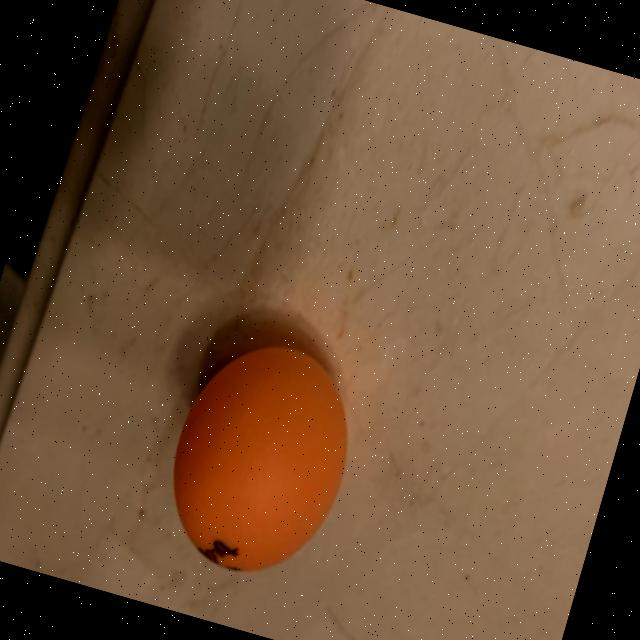ping-pong-ball: (137, 316, 382, 604)
